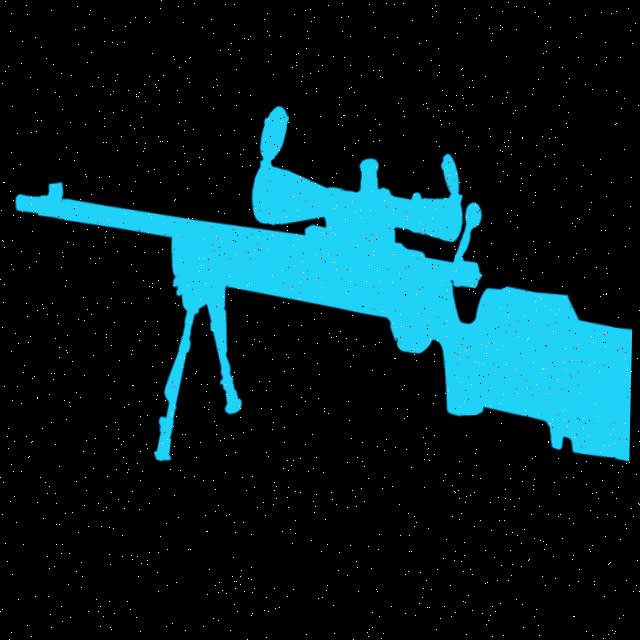firearm: (7, 82, 638, 516)
